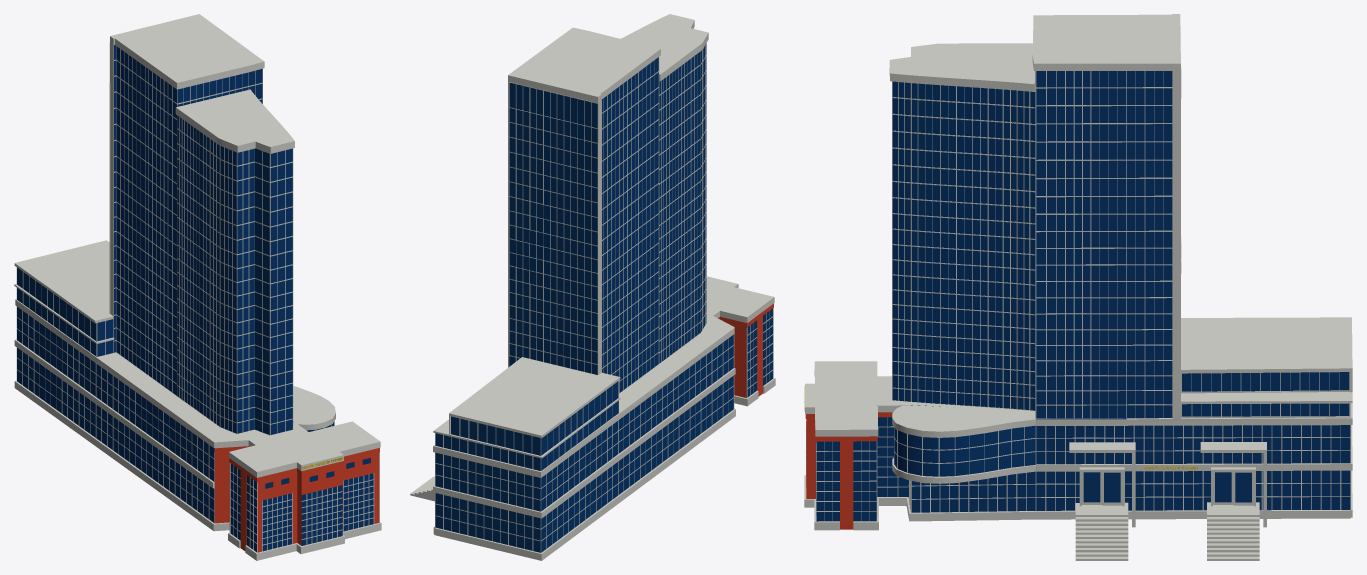
Rendered from tuik_binasi.glb.
3 views of the same model, side by side, from view 1: azimuth 30°, elevation 25°; view 2: azimuth 150°, elevation 25°; view 3: azimuth 270°, elevation 25° (orthographic). The views are drawn at different scales.
Visible parts, largest first — view 1: tuik_binasi.001; view 2: tuik_binasi.001; view 3: tuik_binasi.001.
Boxes of the visible parts, bbox=[...] form: tuik_binasi.001: bbox=[14, 14, 381, 560]; tuik_binasi.001: bbox=[410, 14, 775, 560]; tuik_binasi.001: bbox=[804, 14, 1352, 560].
Size of the model in its own units: 30.24 by 68.69 by 73.76.
